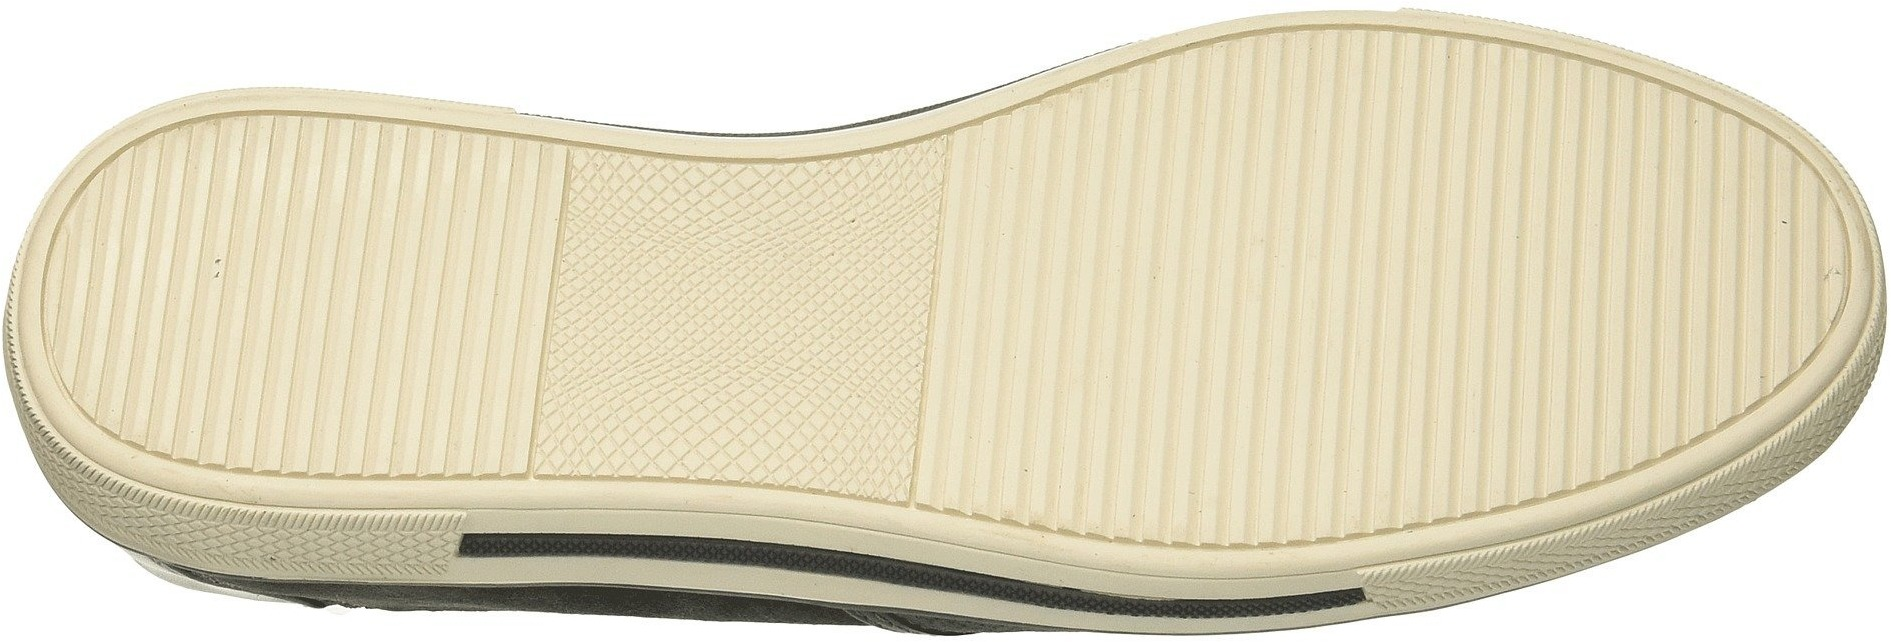other: (950, 133, 1340, 507), (1350, 89, 1664, 356), (82, 198, 320, 434), (316, 167, 544, 383), (1667, 181, 1819, 344), (1358, 363, 1507, 507)
quad: (579, 173, 802, 363), (754, 370, 884, 496), (557, 364, 673, 475)
